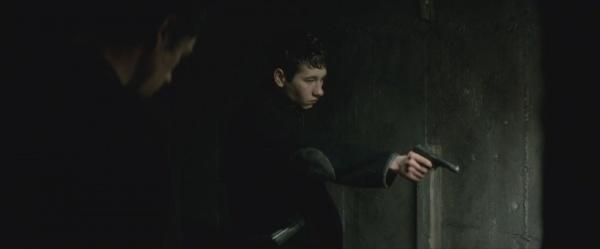Gun: (410, 144, 461, 176)
